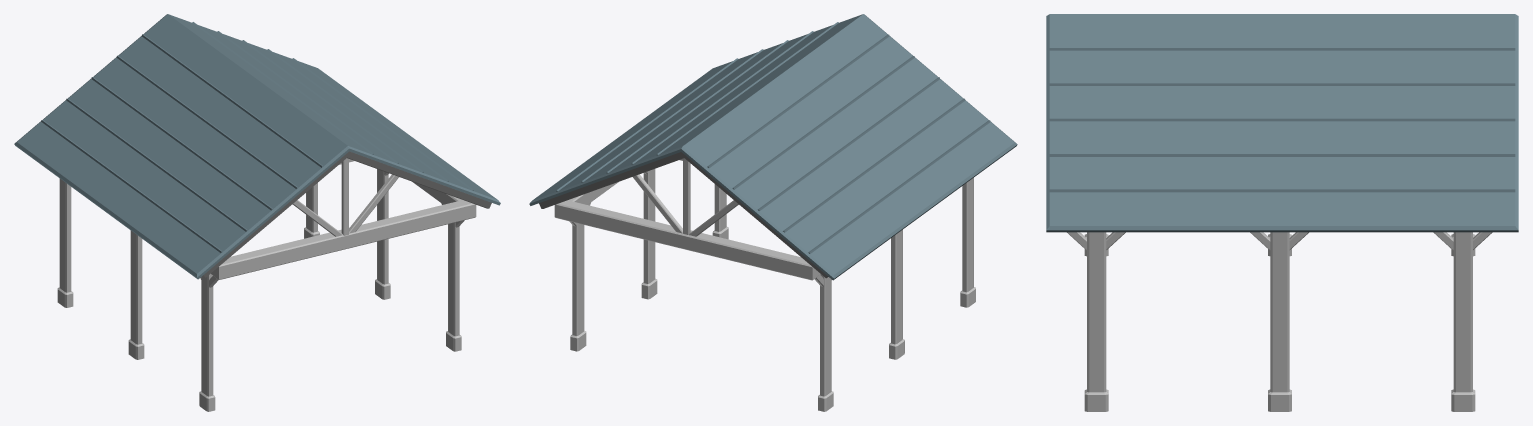
File: fp_silo_l2.glb
3 views of the same model, side by side, from view 1: azimuth 30°, elevation 25°; view 2: azimuth 150°, elevation 25°; view 3: azimuth 270°, elevation 25° (orthographic). The views are drawn at different scales.
Bounding box in the file's own units: 0.8446 × 0.6515 × 0.88.
